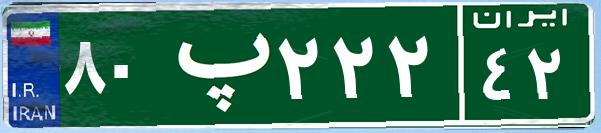0: (110, 28, 158, 105)
2: (385, 28, 445, 110), (273, 28, 330, 110), (330, 28, 385, 110), (525, 38, 570, 115)
4: (475, 38, 525, 113)
8: (57, 26, 110, 107)
پ: (158, 15, 273, 115)
